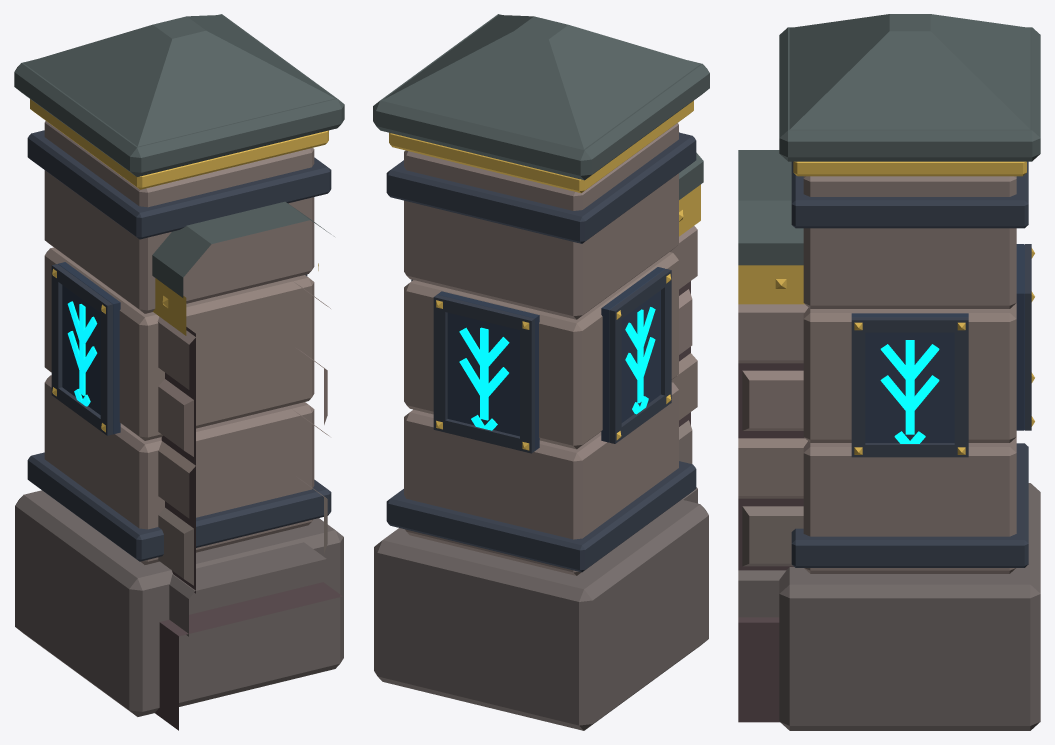
Rendered from stone_wall_end.glb.
The picture shows the model from 3 angles, left to right: view 1: azimuth 30°, elevation 25°; view 2: azimuth 150°, elevation 25°; view 3: azimuth 270°, elevation 25°; orthographic projection. The views are drawn at different scales.
Parts seen in each view (by area): view 1: body, glow_runes; view 2: body, glow_runes; view 3: body, glow_runes.
Part boxes in pixels (x1,y1,x2,y2): body: (14, 14, 344, 730); glow_runes: (67, 301, 97, 406); body: (373, 14, 709, 730); glow_runes: (459, 307, 655, 430); body: (738, 14, 1040, 730); glow_runes: (880, 340, 939, 443).
Size of the model in its own units: 0.76 by 2.11 by 0.88.
